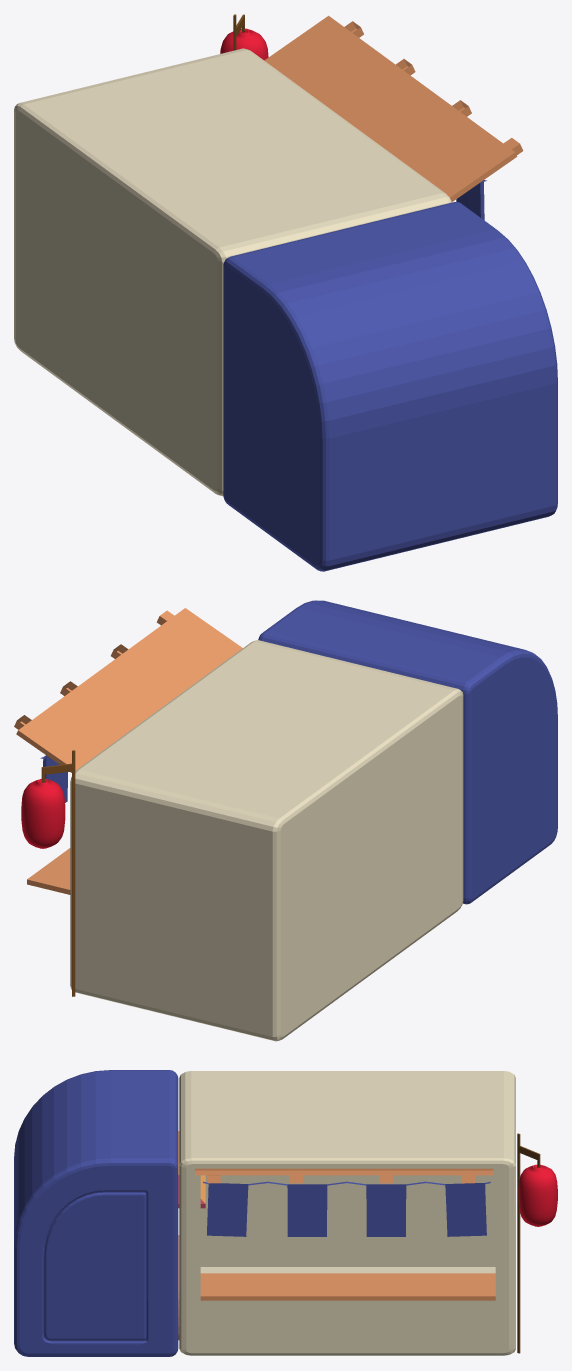
File: Food Booth3.fbx
3 views of the same model, one above another, from view 1: azimuth 30°, elevation 25°; view 2: azimuth 150°, elevation 25°; view 3: azimuth 270°, elevation 25° (orthographic). The views are drawn at different scales.
Parts seen in each view (by area): view 1: Cube.001, Cube.002, Plane.001, Sphere; view 2: Cube.002, Cube.001, Plane.001, Sphere, Cube.004; view 3: Cube.002, Cube.001, Plane.002, Plane.001, Sphere, Cube.004.
Boxes of the visible parts, bbox=[...] form: Cube.001: bbox=[223, 202, 557, 571]; Cube.002: bbox=[14, 48, 451, 496]; Plane.001: bbox=[264, 15, 523, 201]; Sphere: bbox=[220, 28, 268, 60]; Cube.002: bbox=[27, 640, 463, 1041]; Cube.001: bbox=[258, 600, 557, 904]; Plane.001: bbox=[14, 608, 242, 772]; Sphere: bbox=[21, 778, 65, 848]; Cube.004: bbox=[41, 750, 75, 996]; Cube.002: bbox=[179, 1071, 515, 1355]; Cube.001: bbox=[14, 1070, 178, 1356]; Plane.002: bbox=[203, 1181, 490, 1236]; Plane.001: bbox=[195, 1168, 493, 1183]; Sphere: bbox=[518, 1164, 557, 1226]; Cube.004: bbox=[517, 1133, 540, 1353].
Size of the model in its own units: 1640 by 1351 by 3012.
